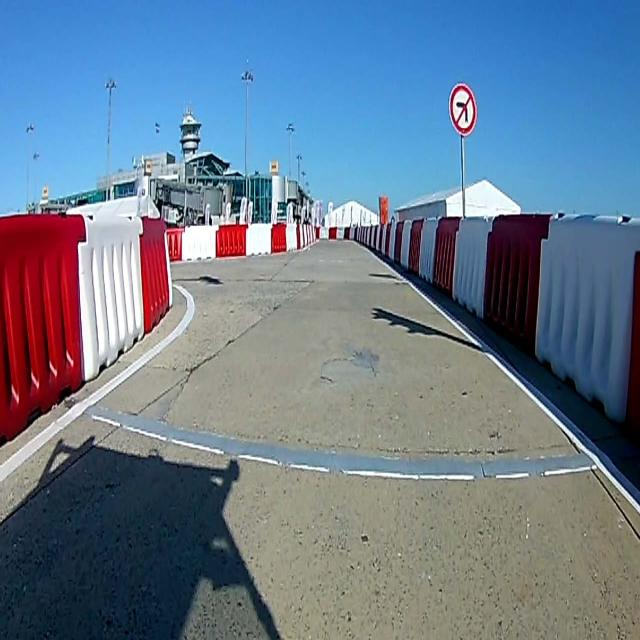soladonulmez: (451, 84, 477, 132)
